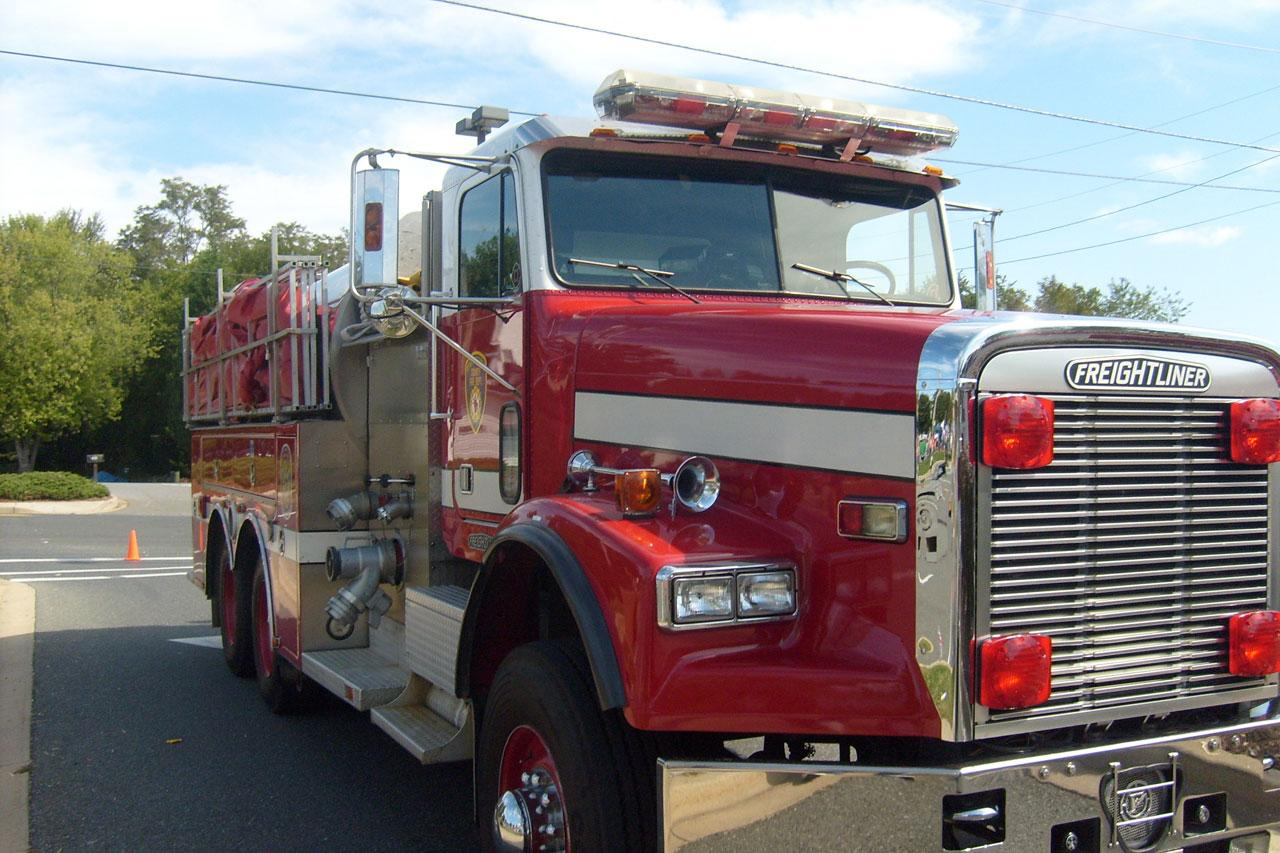Fire-engine: (178, 68, 1278, 851)
